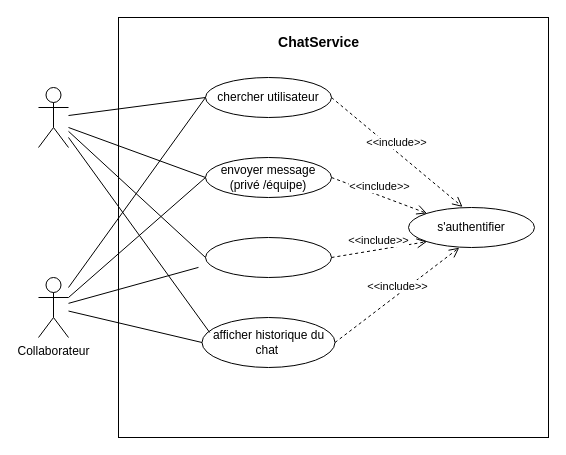
Image size: 566x455. Some labels were removed from this diagram. Each missing label, with the centre of its shape:
"Chef" belongs at [53,117].
"recevoir message (privé /équipe)" belongs at [268,257].
